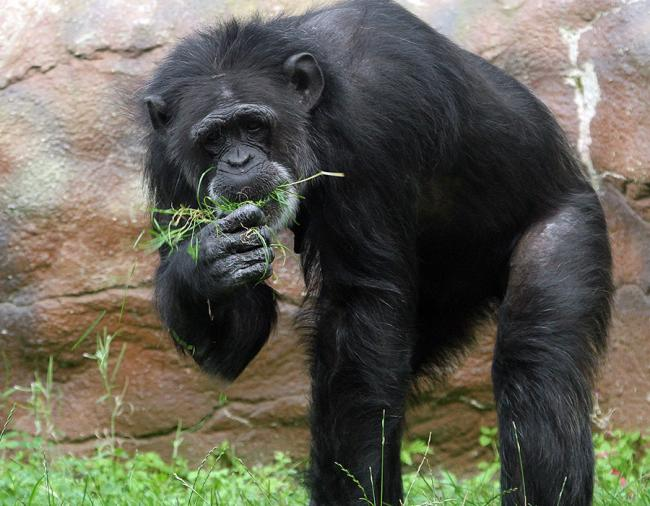Chimpanzee: (155, 23, 597, 506)
